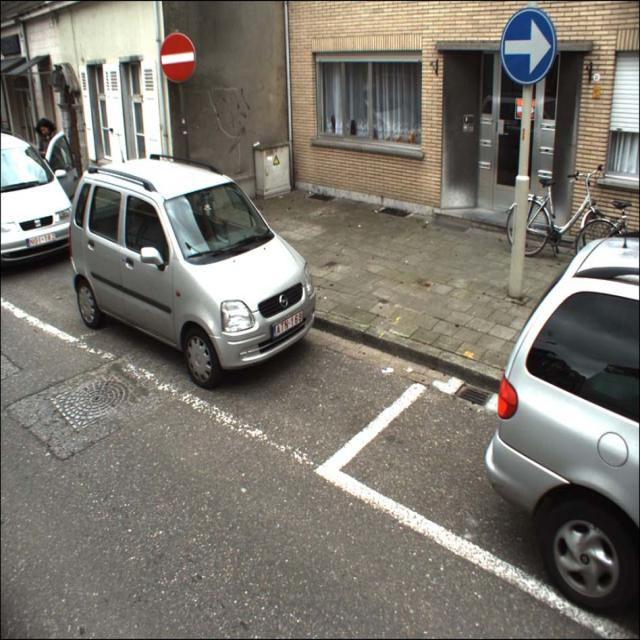girisyok: (160, 33, 196, 83)
sag: (501, 9, 556, 82)
